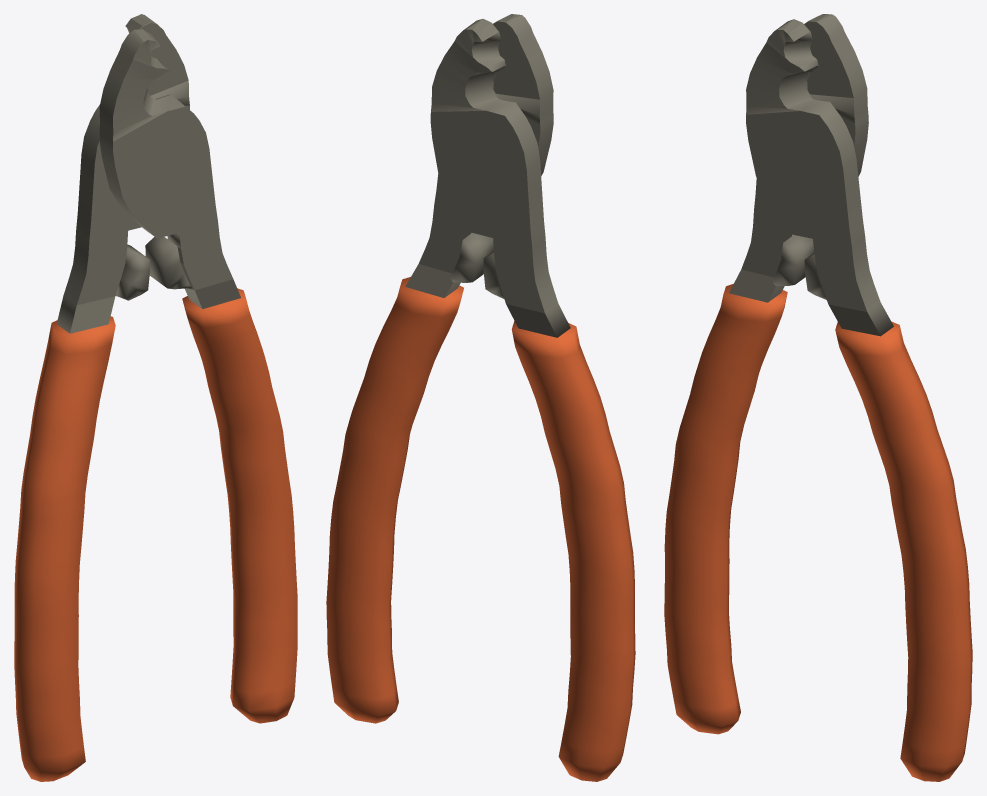
The model's file is Cutter.fbx.
The picture shows the model from 3 angles, left to right: view 1: azimuth 30°, elevation 25°; view 2: azimuth 150°, elevation 25°; view 3: azimuth 330°, elevation 25°; orthographic projection.
Parts seen in each view (by area): view 1: Cylinder_Clone_, Cylinder; view 2: Cylinder, Cylinder_Clone_; view 3: Cylinder_Clone_, Cylinder.
Boxes of the visible parts, left/top/right/bottom form: Cylinder_Clone_: left=99, top=29, right=297, bottom=723; Cylinder: left=14, top=14, right=189, bottom=781; Cylinder: left=430, top=19, right=635, bottom=781; Cylinder_Clone_: left=326, top=14, right=553, bottom=723; Cylinder_Clone_: left=746, top=19, right=972, bottom=781; Cylinder: left=664, top=14, right=868, bottom=734.
Bounding box in the file's own units: 3.77 × 9.01 × 0.8627.
